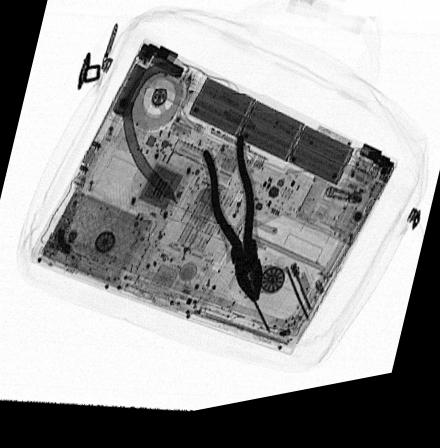Pliers: (199, 141, 264, 313)
